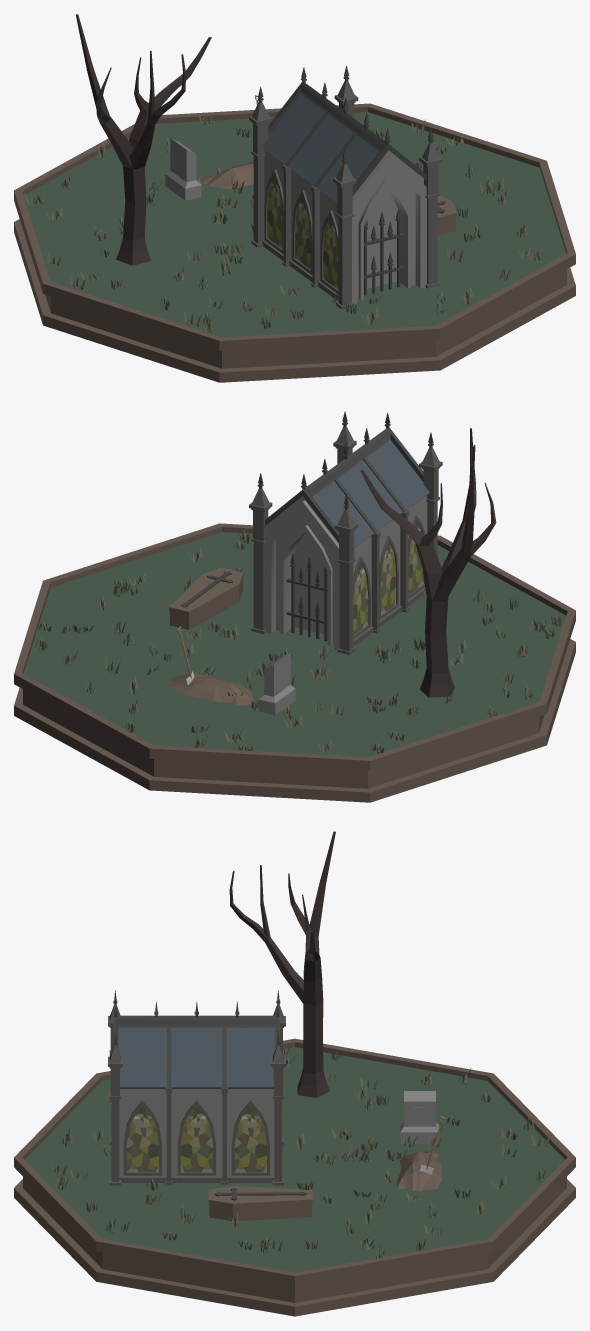
3 renders of one model, top to bottom at view 1: azimuth 30°, elevation 25°; view 2: azimuth 150°, elevation 25°; view 3: azimuth 270°, elevation 25°, orthographic. The views are drawn at different scales.
Parts seen in each view (by area): view 1: Cylinder, Crypt_3, Dead_Tree_1, Grass, Headstone_3, Ground, Coffin_1; view 2: Cylinder, Crypt_3, Dead_Tree_1, Grass, Coffin_1, Ground, Headstone_3; view 3: Cylinder, Crypt_3, Dead_Tree_1, Grass, Coffin_1, Headstone_3, Ground.
Part boxes in pixels (bbox=[...]): Cylinder: bbox=[14, 103, 575, 382]; Crypt_3: bbox=[249, 66, 442, 309]; Dead_Tree_1: bbox=[76, 14, 211, 265]; Grass: bbox=[24, 112, 542, 334]; Headstone_3: bbox=[165, 138, 201, 200]; Ground: bbox=[200, 161, 253, 188]; Coffin_1: bbox=[437, 195, 456, 235]; Cylinder: bbox=[14, 523, 575, 802]; Crypt_3: bbox=[249, 411, 442, 654]; Dead_Tree_1: bbox=[360, 428, 496, 697]; Grass: bbox=[35, 530, 561, 753]; Coffin_1: bbox=[169, 567, 243, 629]; Ground: bbox=[165, 672, 253, 705]; Headstone_3: bbox=[259, 652, 295, 715]; Cylinder: bbox=[14, 1038, 575, 1316]; Crypt_3: bbox=[108, 990, 285, 1185]; Dead_Tree_1: bbox=[229, 831, 335, 1097]; Grass: bbox=[51, 1048, 549, 1258]; Coffin_1: bbox=[208, 1186, 312, 1221]; Headstone_3: bbox=[400, 1091, 439, 1143]; Ground: bbox=[396, 1151, 442, 1191].
Bounding box in the file's own units: 7.9 × 4.23 × 7.9.
Materials: 1 (1 with a texture image).
